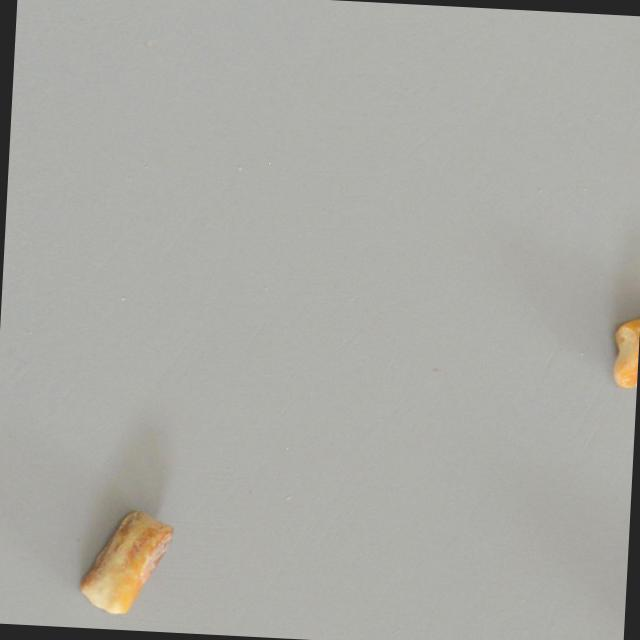dañado: (79, 506, 175, 617)
pelicula: (604, 304, 640, 397)
